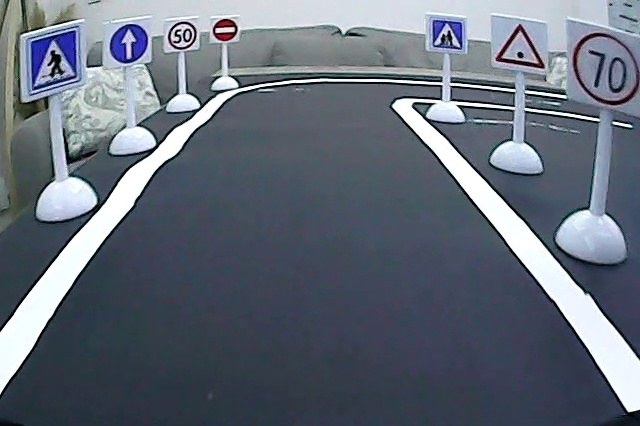do not enter: (212, 16, 240, 45)
green light: (494, 20, 548, 72)
pedestrian crossing: (25, 27, 82, 93)
school crossing: (430, 16, 465, 51)
speed limit 50: (167, 20, 198, 51)
speed limit 70: (570, 28, 640, 110)
